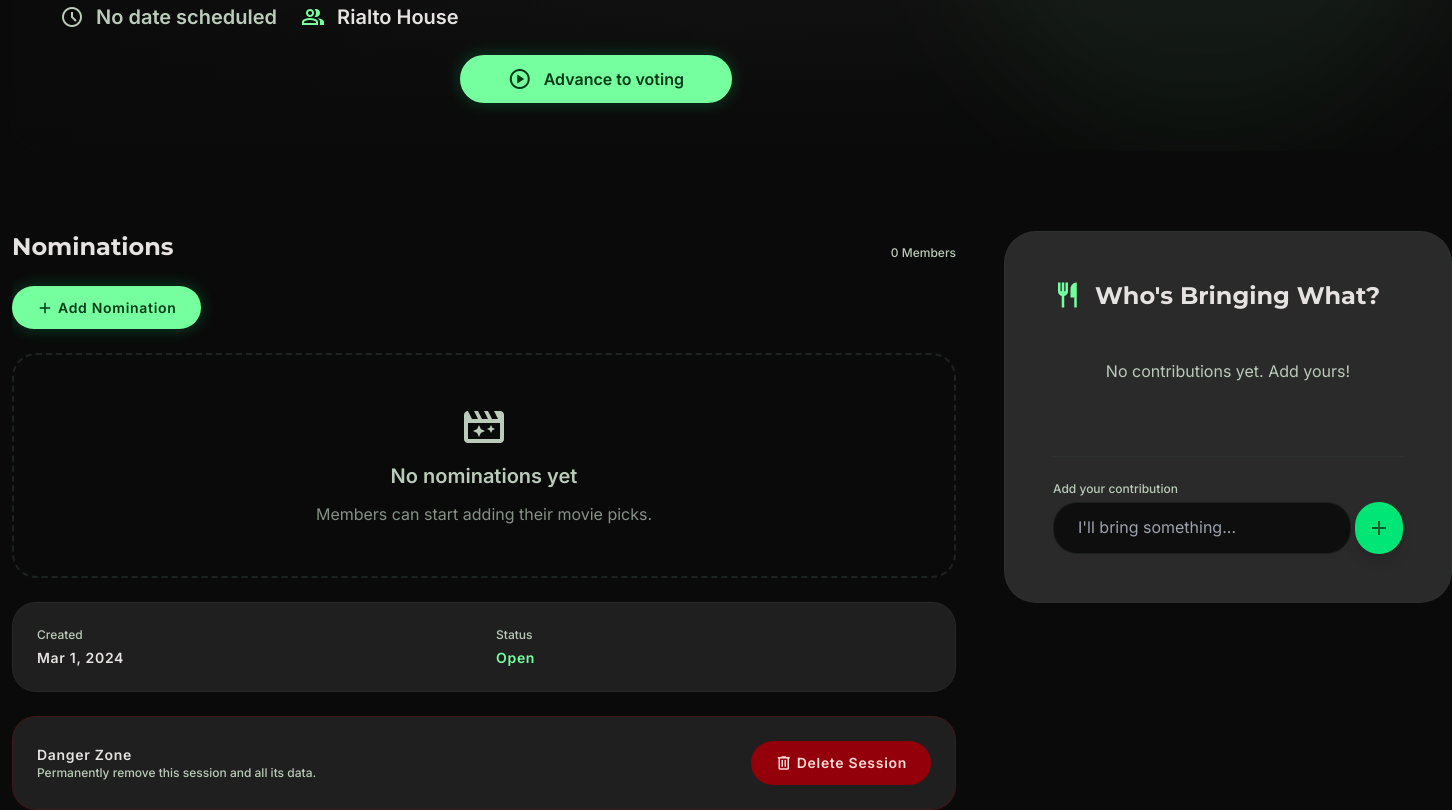
Test: SessionPage › pressing Enter in the potluck input adds the contribution
This screenshot has width=1452, height=810.
(page scrolled)
Type "Nachos" into the field with placeholder "I'll bring something..." at coordinates (1202, 528), box [1053, 502, 1351, 554]
Then press Enter
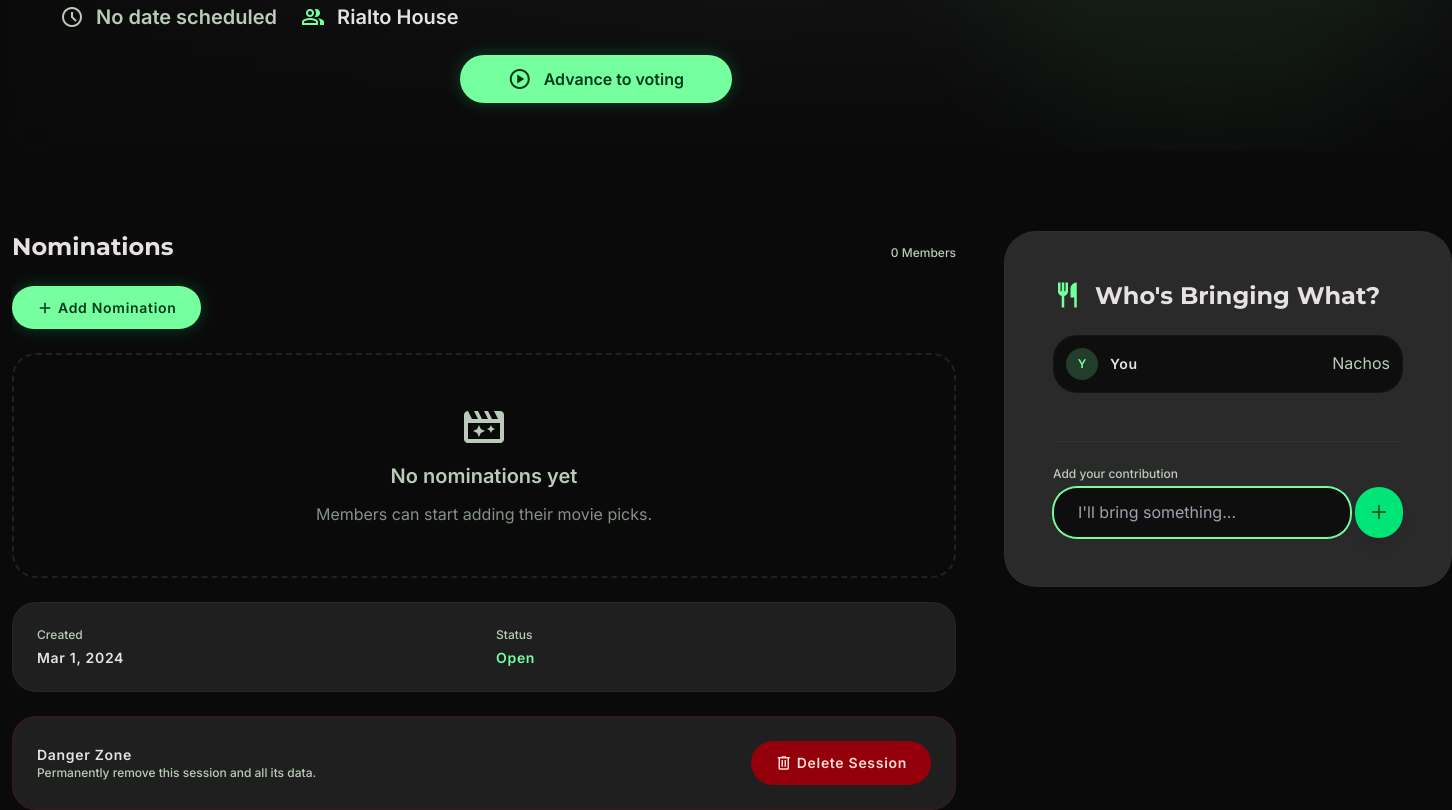
Check: the text "Nachos" is shown, box [1332, 351, 1390, 377]
